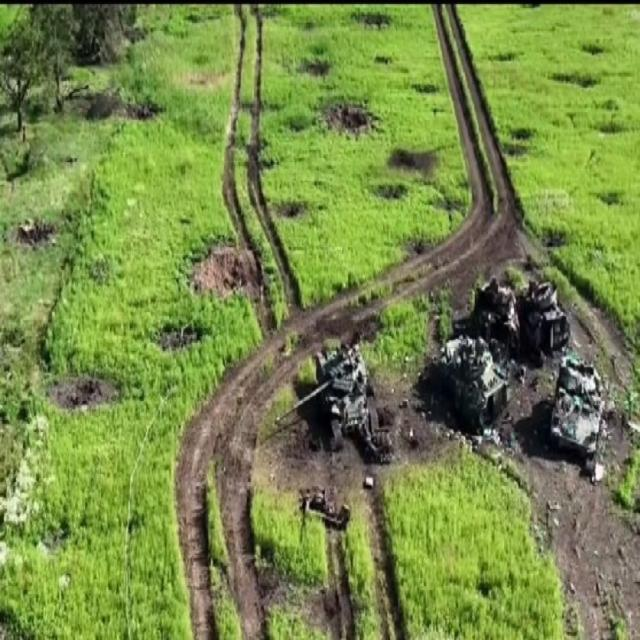AIFV: (434, 331, 509, 442), (547, 354, 610, 459), (515, 279, 574, 358), (475, 278, 522, 357)
MBT: (276, 340, 378, 463)
